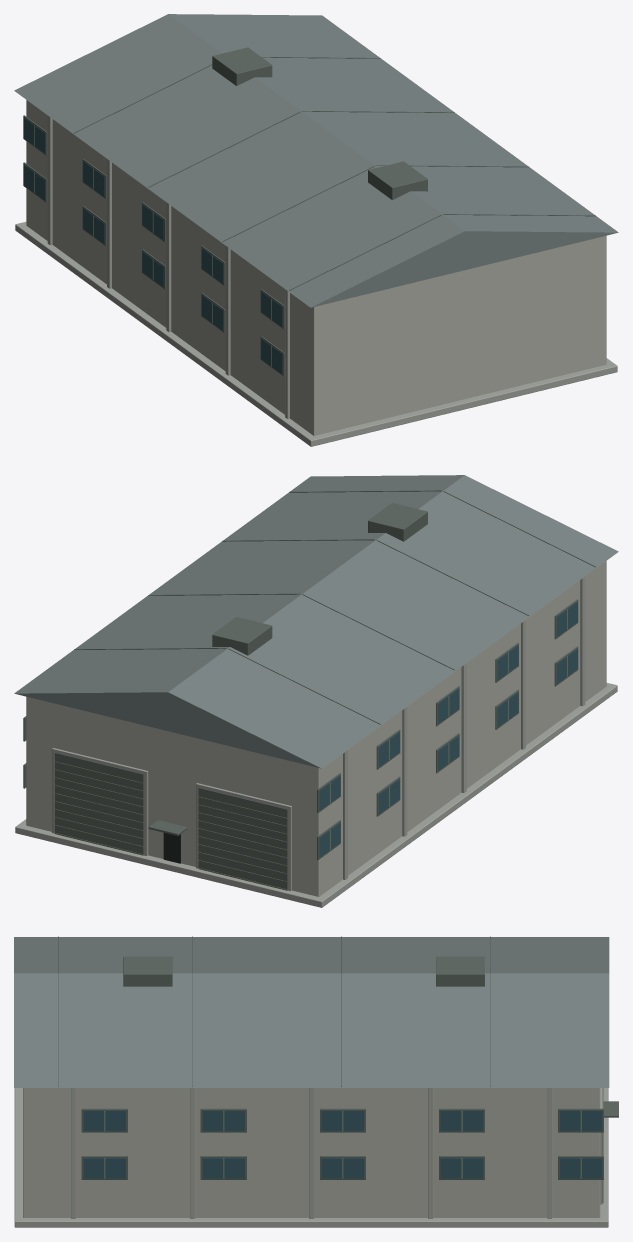
File: building.glb
3 views of the same model, one above another, from view 1: azimuth 30°, elevation 25°; view 2: azimuth 150°, elevation 25°; view 3: azimuth 270°, elevation 25° (orthographic).
Visible parts, largest first — view 1: static.roof sheet, static.industrial wall, static.concrete, static.dark exterior metal, static.smoked glazing; view 2: static.roof sheet, static.industrial wall, static.dark exterior metal, static.concrete, static.smoked glazing, static.edge and panel paint; view 3: static.roof sheet, static.industrial wall, static.concrete, static.smoked glazing, static.dark exterior metal, static.edge and panel paint.
Boxes of the visible parts, x1,y1,x2,y2 form: static.roof sheet: [14, 14, 618, 307]; static.industrial wall: [26, 100, 606, 435]; static.concrete: [15, 115, 617, 446]; static.dark exterior metal: [23, 47, 595, 376]; static.smoked glazing: [24, 118, 282, 374]; static.roof sheet: [14, 475, 618, 768]; static.industrial wall: [26, 561, 606, 896]; static.dark exterior metal: [23, 490, 595, 890]; static.concrete: [15, 576, 617, 907]; static.smoked glazing: [319, 601, 577, 857]; static.edge and panel paint: [54, 609, 567, 889]; static.roof sheet: [14, 937, 609, 1087]; static.industrial wall: [23, 1088, 600, 1217]; static.concrete: [14, 1088, 608, 1227]; static.smoked glazing: [83, 1111, 602, 1178]; static.dark exterior metal: [58, 936, 618, 1202]; static.edge and panel paint: [104, 1088, 603, 1201].
Bounding box in the file's own units: 23.62 × 13.66 × 40.
